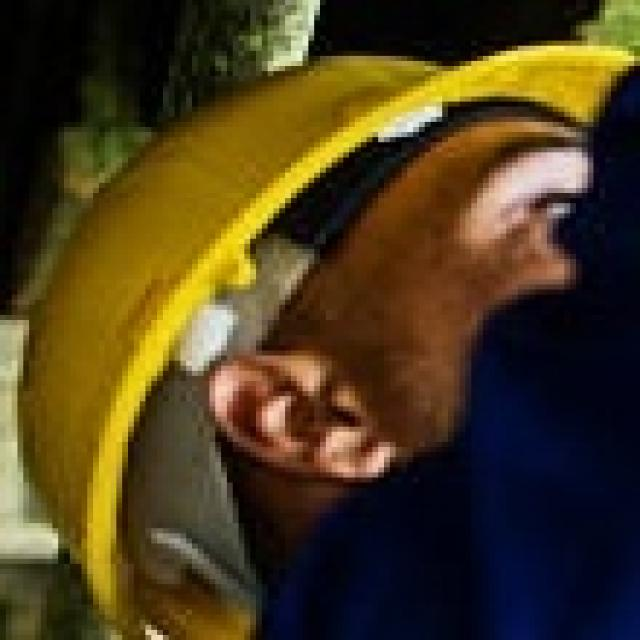helmet_yellow: (3, 2, 637, 638)
